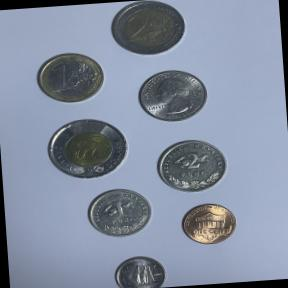1 Euro: (31, 46, 109, 110)
2 Euro: (105, 0, 191, 61)
Canda-10cent-: (108, 251, 168, 288)
Canda-2Dollar-: (38, 112, 133, 186)
Croatia-2Kune-: (149, 133, 233, 199)
US-1cent-: (174, 196, 242, 250)
US-25cent-: (131, 64, 213, 127)
